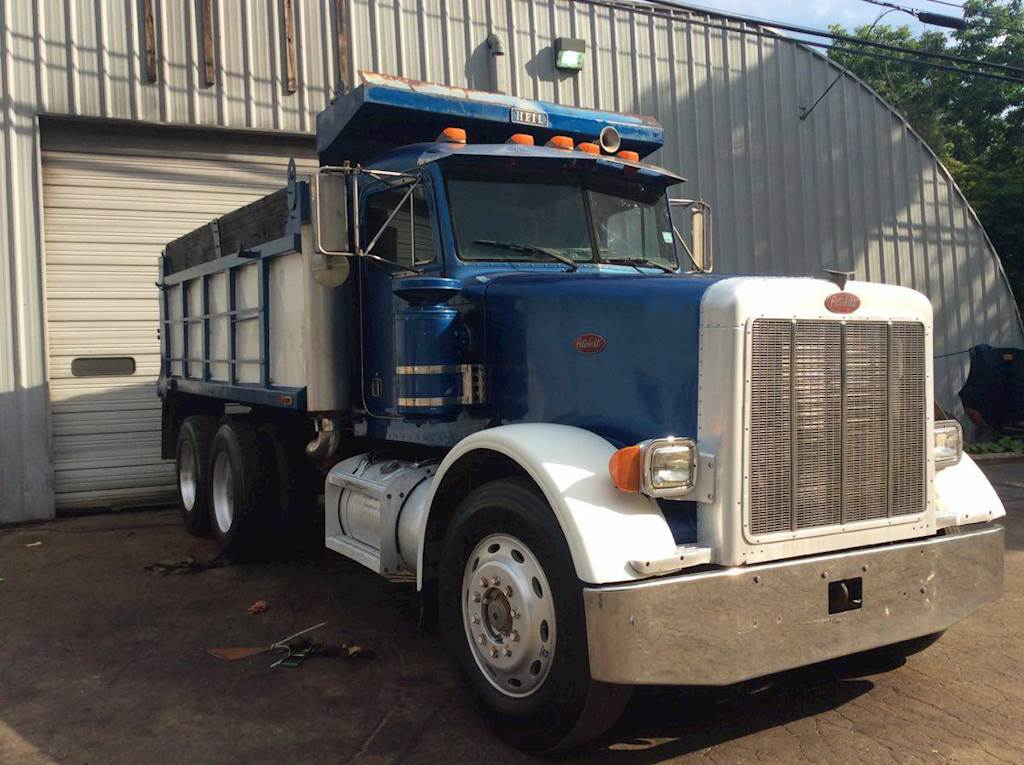truck: (152, 44, 1004, 756)
